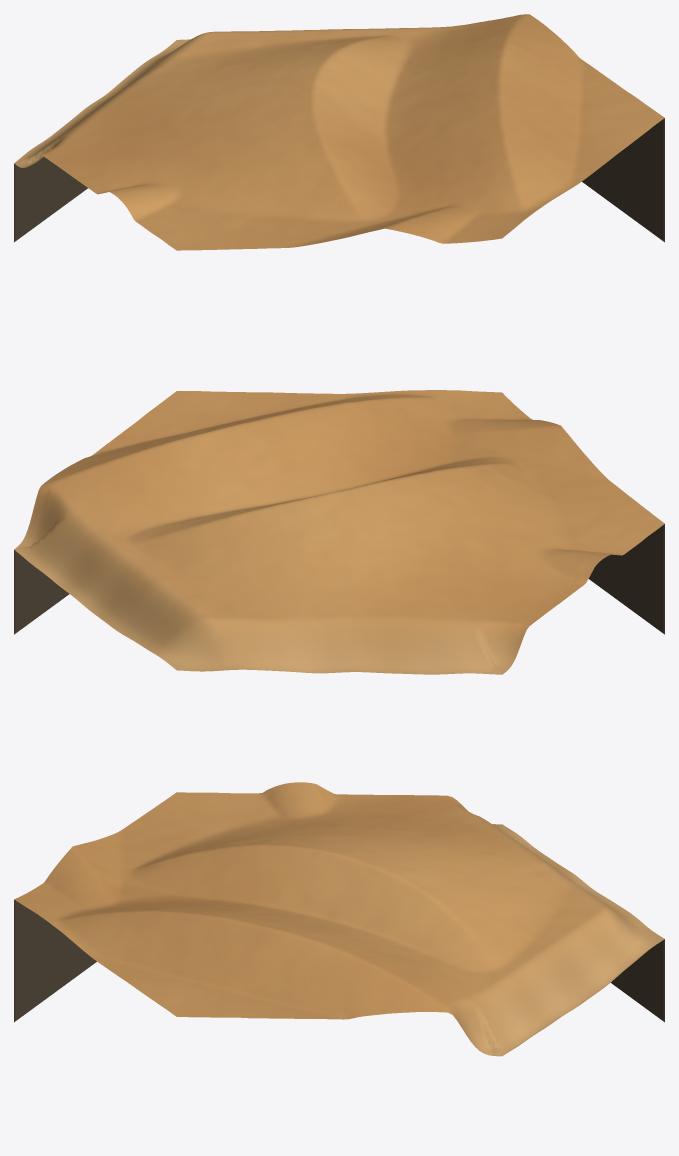
The picture shows the model from 3 angles, top to bottom: view 1: azimuth 30°, elevation 25°; view 2: azimuth 150°, elevation 25°; view 3: azimuth 270°, elevation 25°; orthographic projection.
Parts seen in each view (by area): view 1: terrain, hex_side_cut; view 2: terrain, hex_side_cut; view 3: terrain, hex_side_cut.
Part boxes in pixels (left/top/right/bottom): terrain: left=14, top=14, right=664, bottom=250; hex_side_cut: left=14, top=118, right=664, bottom=242; terrain: left=14, top=390, right=664, bottom=674; hex_side_cut: left=14, top=524, right=664, bottom=634; terrain: left=14, top=782, right=664, bottom=1056; hex_side_cut: left=14, top=899, right=664, bottom=1022.
Size of the model in its own units: 4330 by 1319 by 5000.
